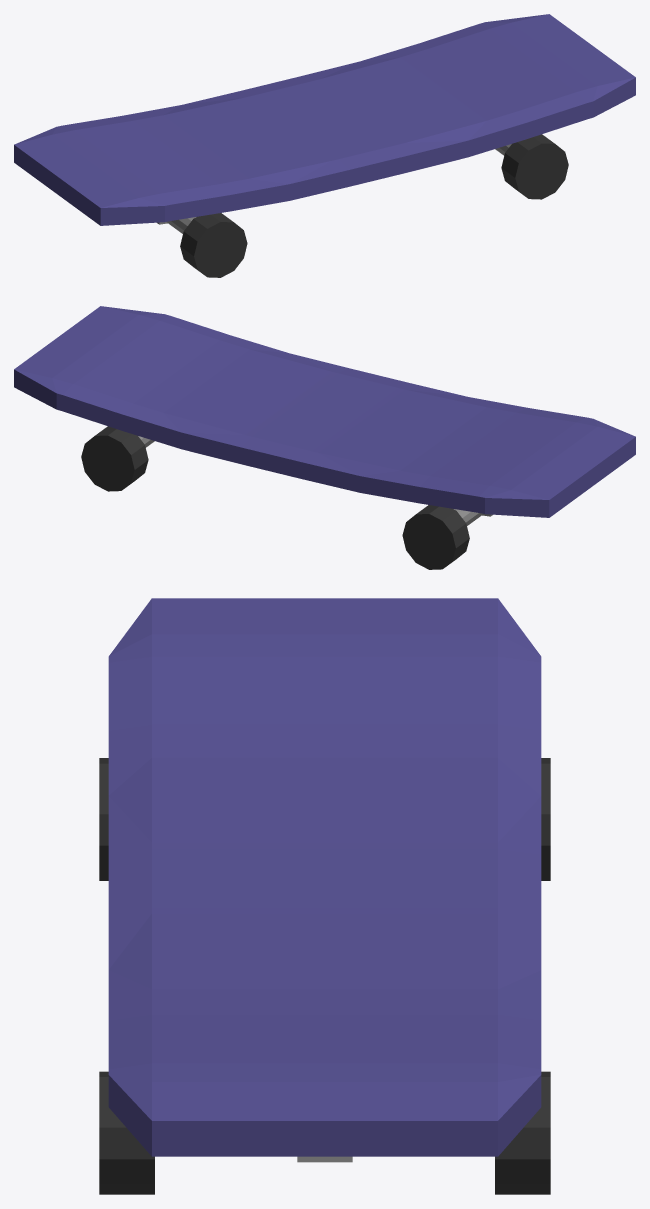
The model's file is skateboard.fbx.
3 renders of one model, top to bottom at view 1: azimuth 30°, elevation 25°; view 2: azimuth 150°, elevation 25°; view 3: azimuth 270°, elevation 25°, orthographic. The views are drawn at different scales.
Parts seen in each view (by area): view 1: Table, Cylinder, Cylinder.002; view 2: Table, Cylinder.003, Cylinder.005; view 3: Table, Cylinder.002, Cylinder.005, Cylinder, Cylinder.003.
Part boxes in pixels (x1=…): Table: x1=14, y1=14, x2=635, y2=225; Cylinder: x1=180, y1=213, x2=247, y2=277; Cylinder.002: x1=501, y1=134, x2=568, y2=199; Table: x1=14, y1=306, x2=635, y2=517; Cylinder.003: x1=402, y1=505, x2=469, y2=569; Cylinder.005: x1=81, y1=426, x2=148, y2=491; Table: x1=108, y1=598, x2=541, y2=1156; Cylinder.002: x1=99, y1=1071, x2=154, y2=1194; Cylinder.005: x1=495, y1=1071, x2=550, y2=1194; Cylinder: x1=99, y1=758, x2=108, y2=880; Cylinder.003: x1=541, y1=758, x2=550, y2=880.
Size of the model in its own units: 400 by 62.15 by 146.
